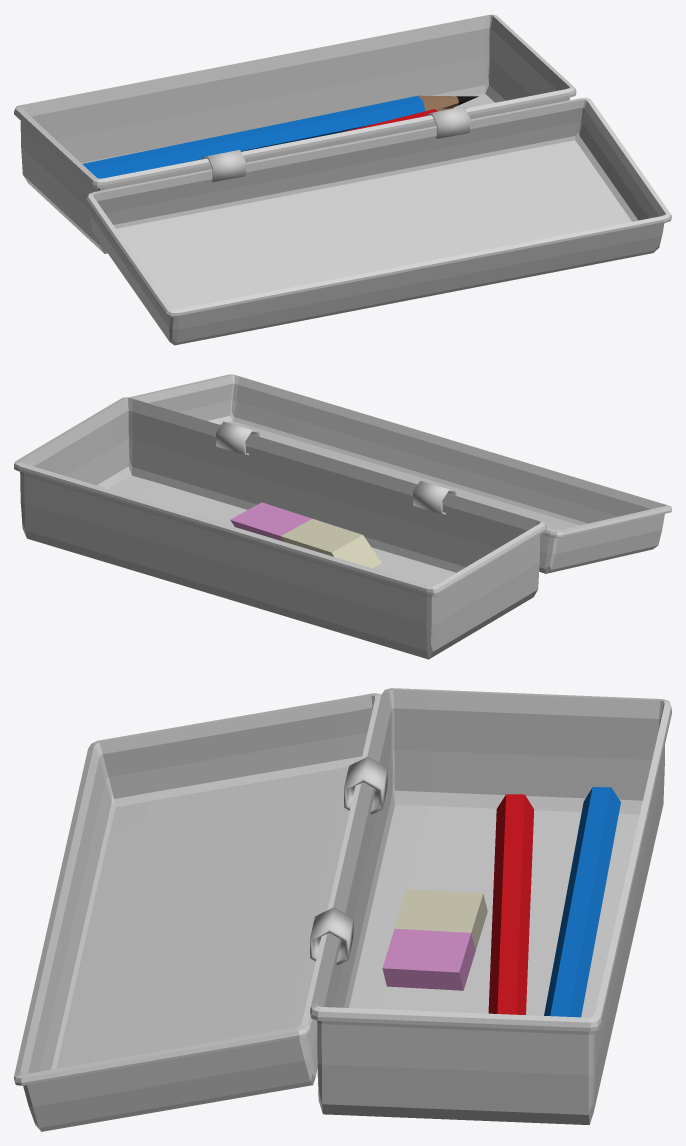
The picture shows the model from 3 angles, top to bottom: view 1: azimuth 30°, elevation 25°; view 2: azimuth 150°, elevation 25°; view 3: azimuth 270°, elevation 25°; orthographic projection. The views are drawn at different scales.
Parts seen in each view (by area): view 1: Cylinder.007; view 2: Cylinder.007; view 3: Cylinder.007.
Boxes of the visible parts, left/top/right/bottom form: Cylinder.007: left=14, top=14, right=671, bottom=345; Cylinder.007: left=14, top=374, right=671, bottom=659; Cylinder.007: left=14, top=688, right=671, bottom=1131.
Bounding box in the file's own units: 2074 × 379 × 1623.
Materials: 7 (1 with a texture image).
